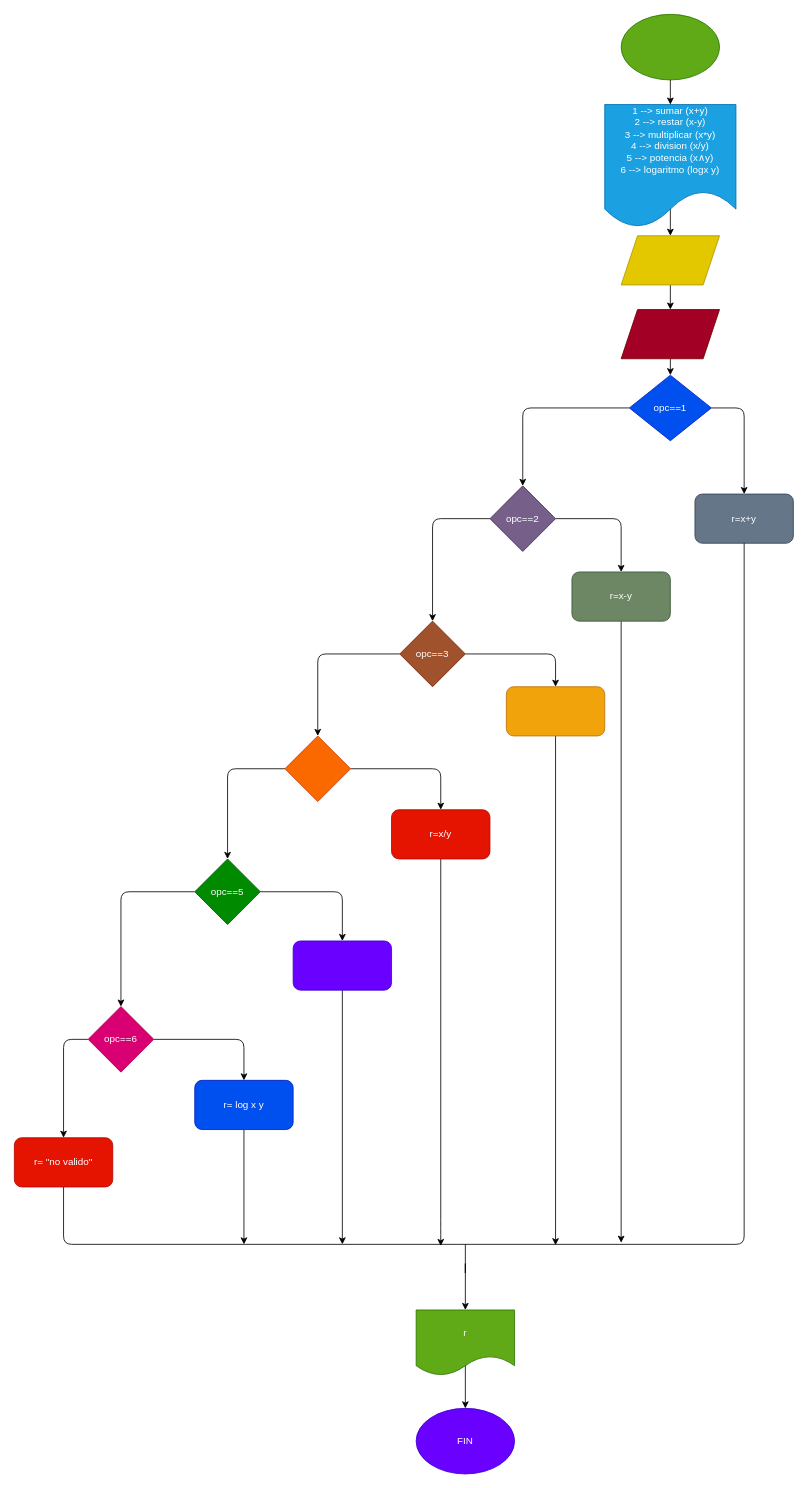
This 808x1488 diagram has some shape labels left out. Each missing label, with the centre of its shape:
INICIO: pixel 670 47
opc: pixel 670 334
opc==4: pixel 317 768
r=x ∧y: pixel 342 965
r=x*y: pixel 555 711
X,Y: pixel 670 260
